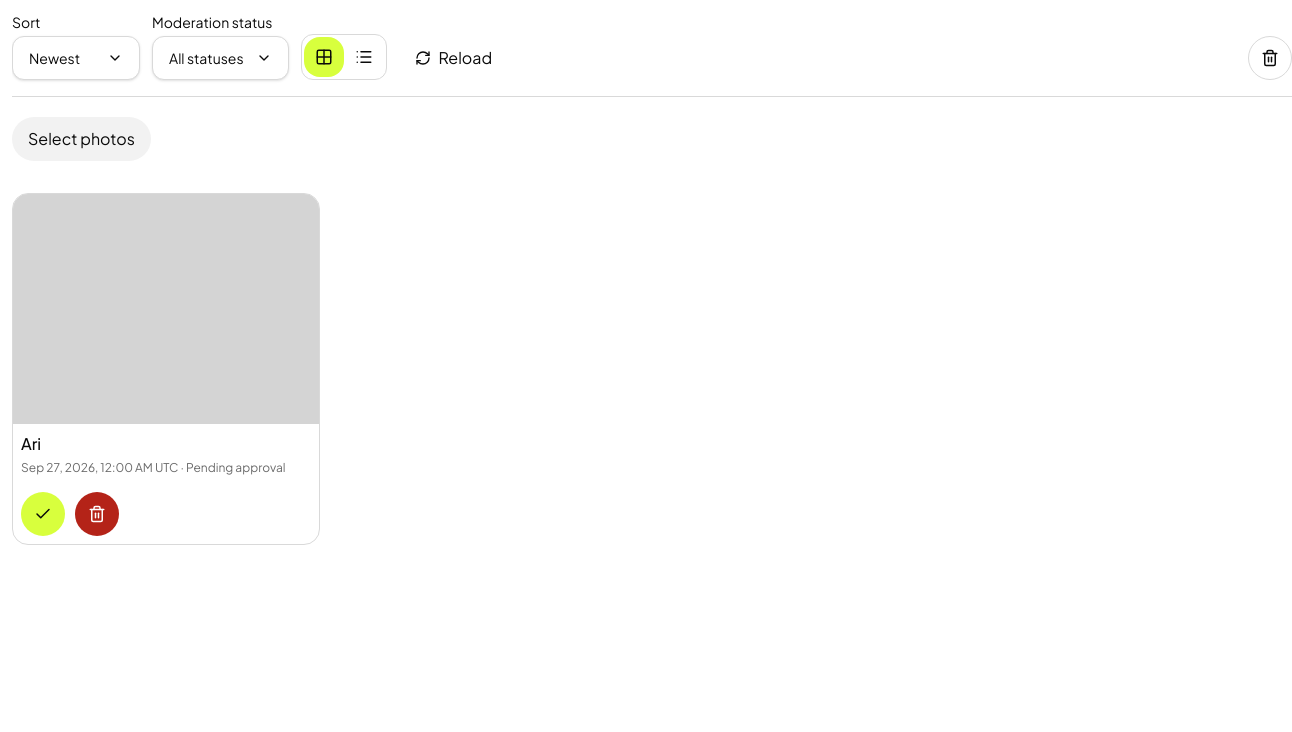
Test case: host gallery management › changes grid/list accessibly and clears export selection when sorting changes
The image size is (1292, 732).
Check: the text "Ari" is shown, box [21,432,41,454]
Click the button named "List view". click: (364, 57)
box: [344,37,384,77]
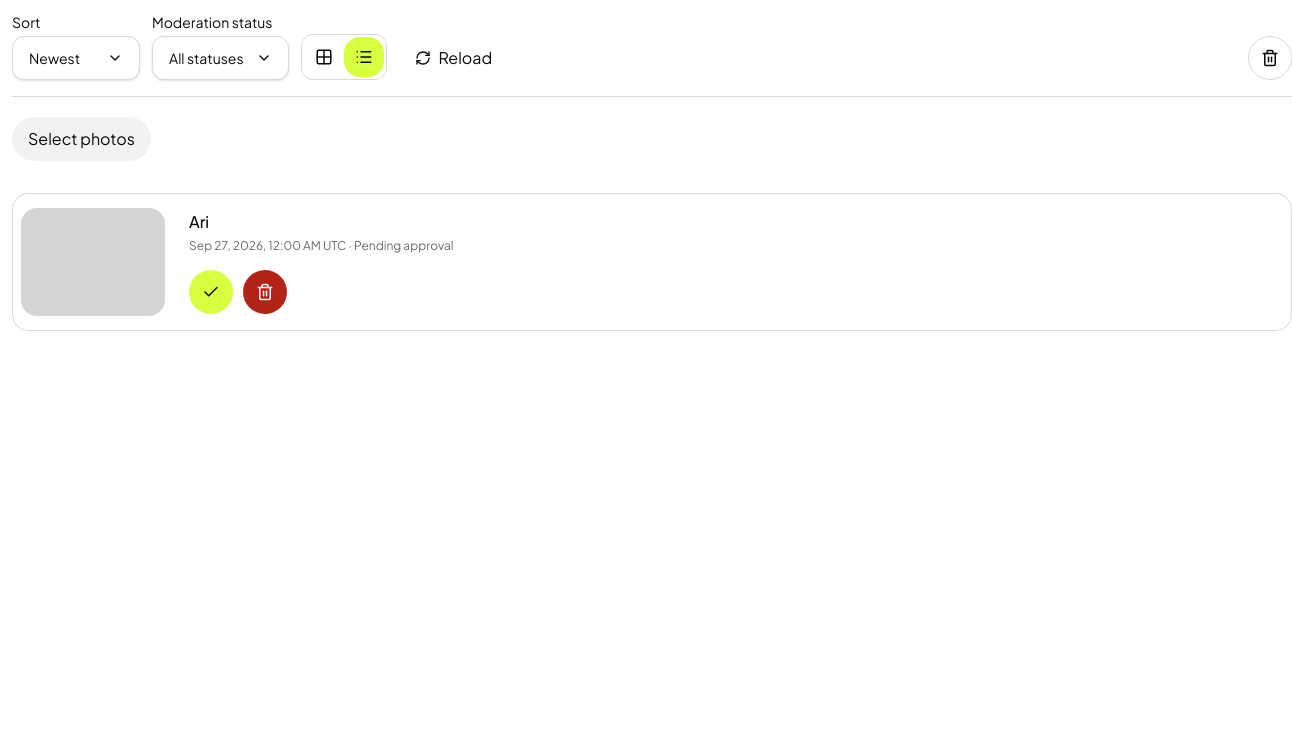
Check: the button named "List view" is pressed, box [344,37,384,77]
Click the button "Select photos". click: (81, 139)
box: [12,117,151,161]
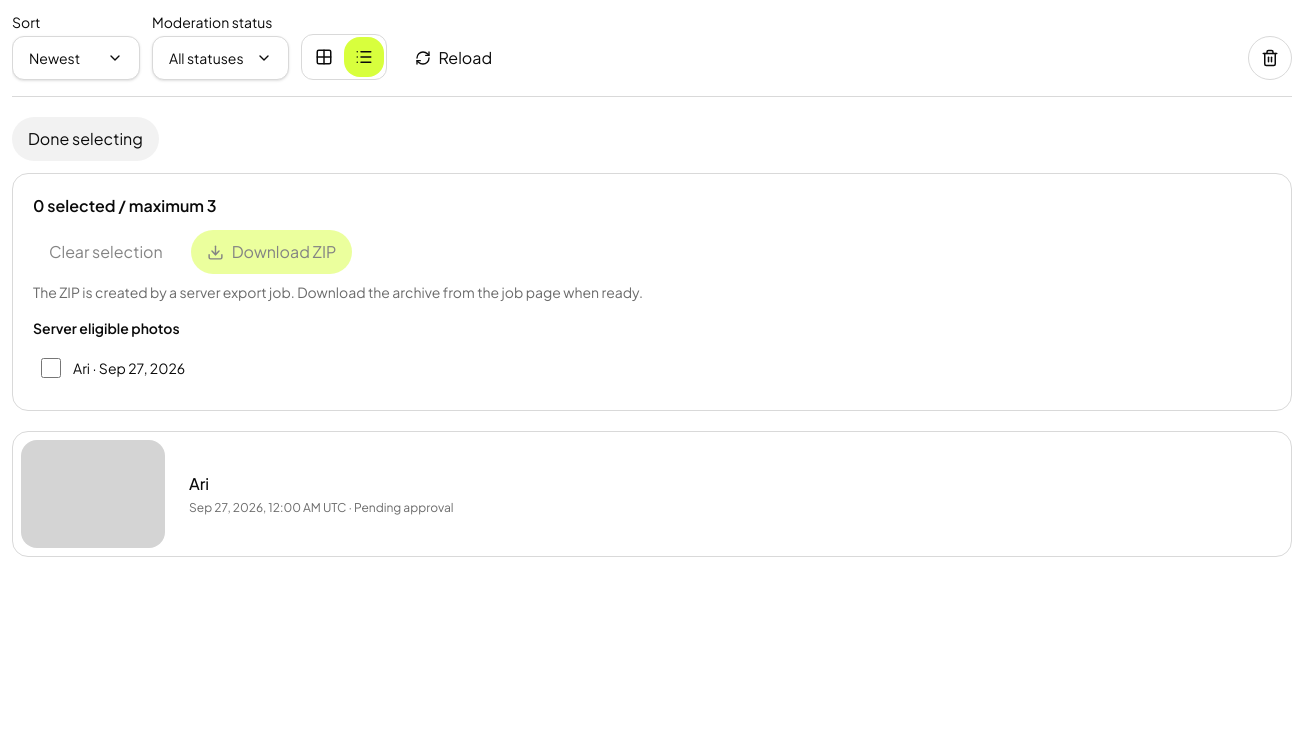
Check: the checkbox named "Select photo by Ari" is shown
Click the checkbox named "Select photo by Ari". click: (51, 368)
box: [41,358,61,378]
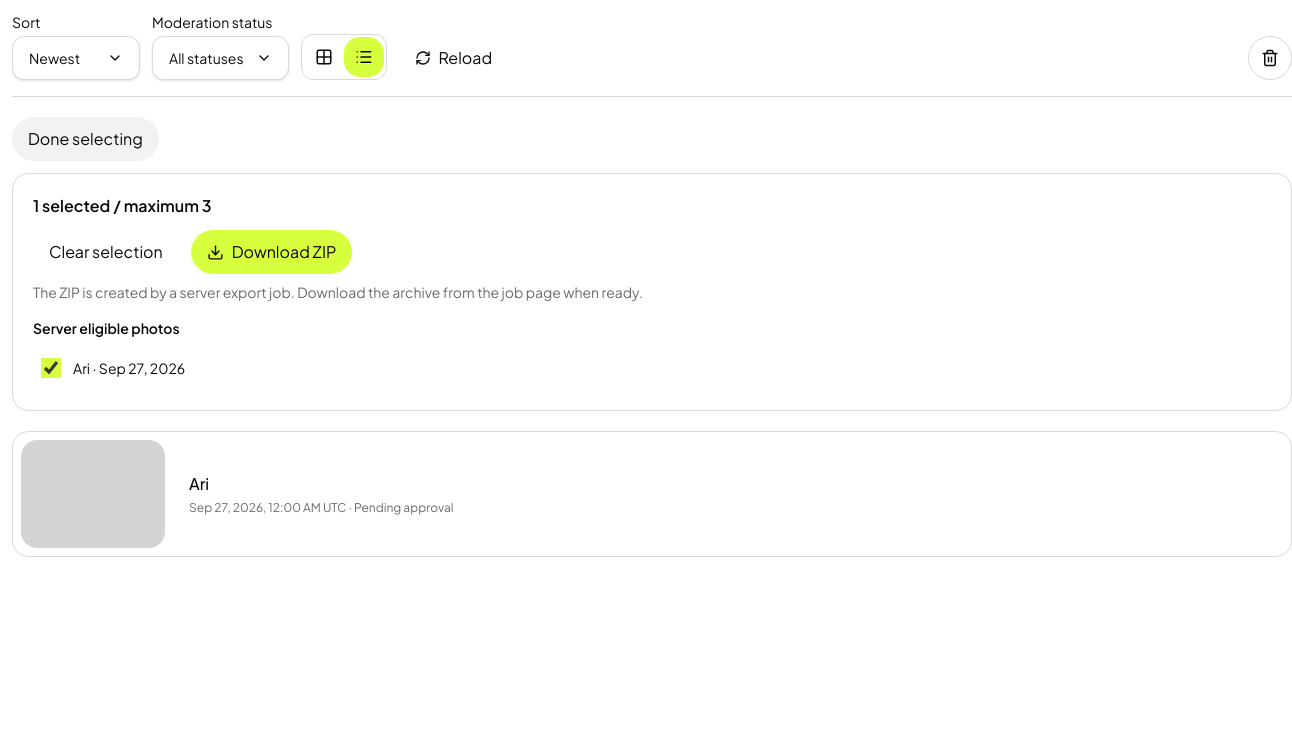
Check: the text "1 selected / maximum 3" is shown, box [33,195,211,216]
Click the dropdown named "Sort". click: (76, 58)
box: [12,36,140,80]
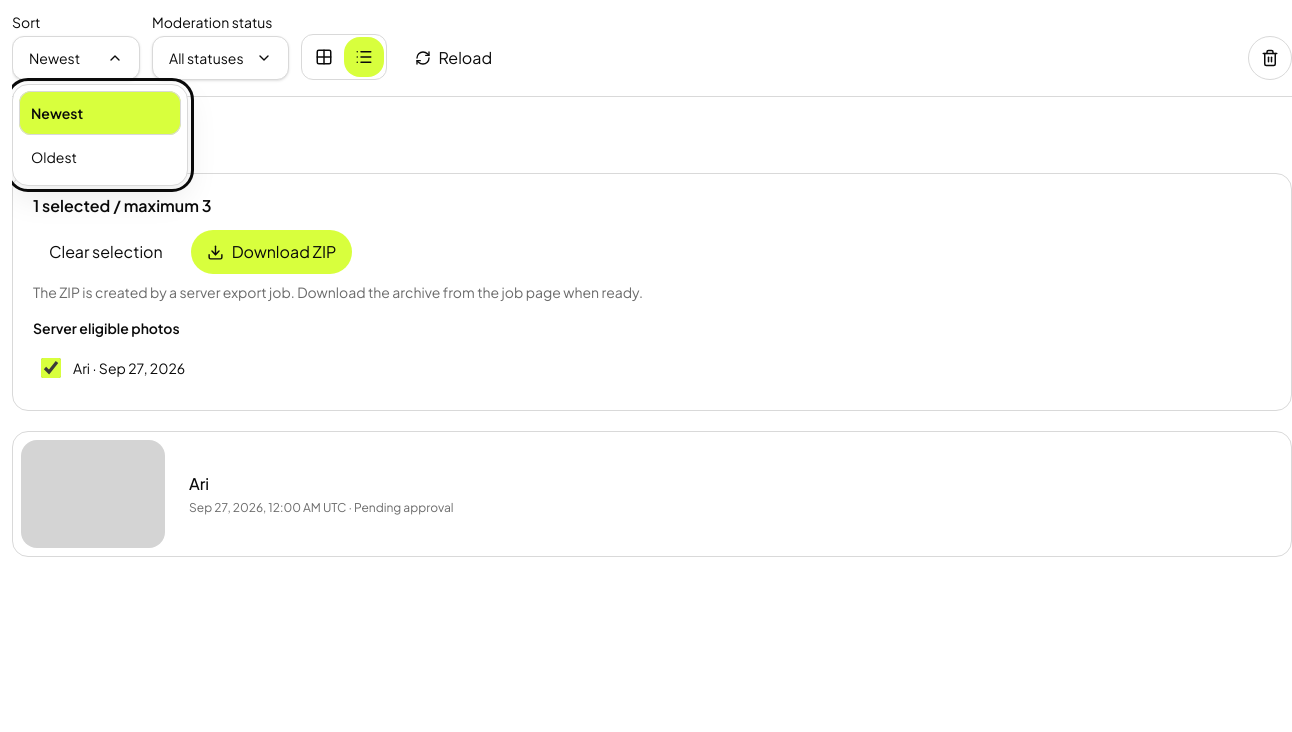
Click the option "Oldest". click: (54, 157)
box: [31,148,77,166]
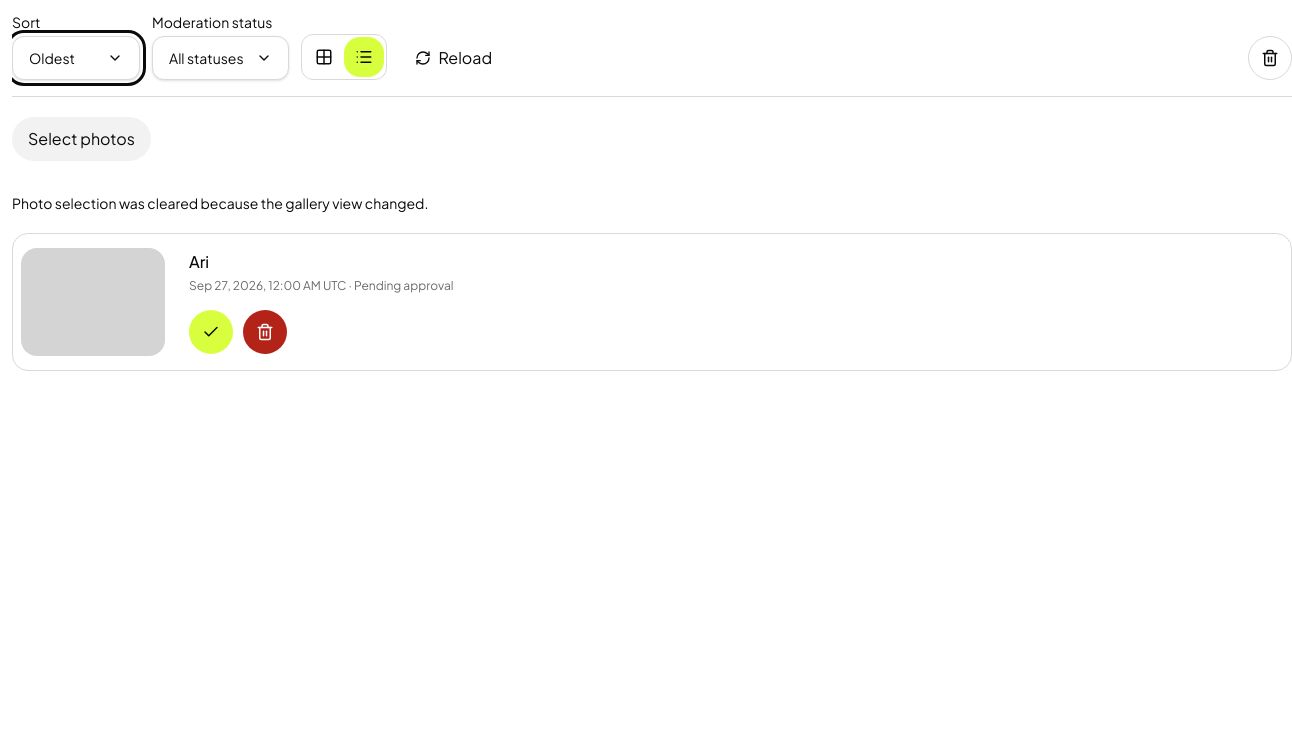
Check: the checkbox is gone
Check: the text "Photo selection was cleared because the gallery view changed." is shown, box [12,194,428,212]
